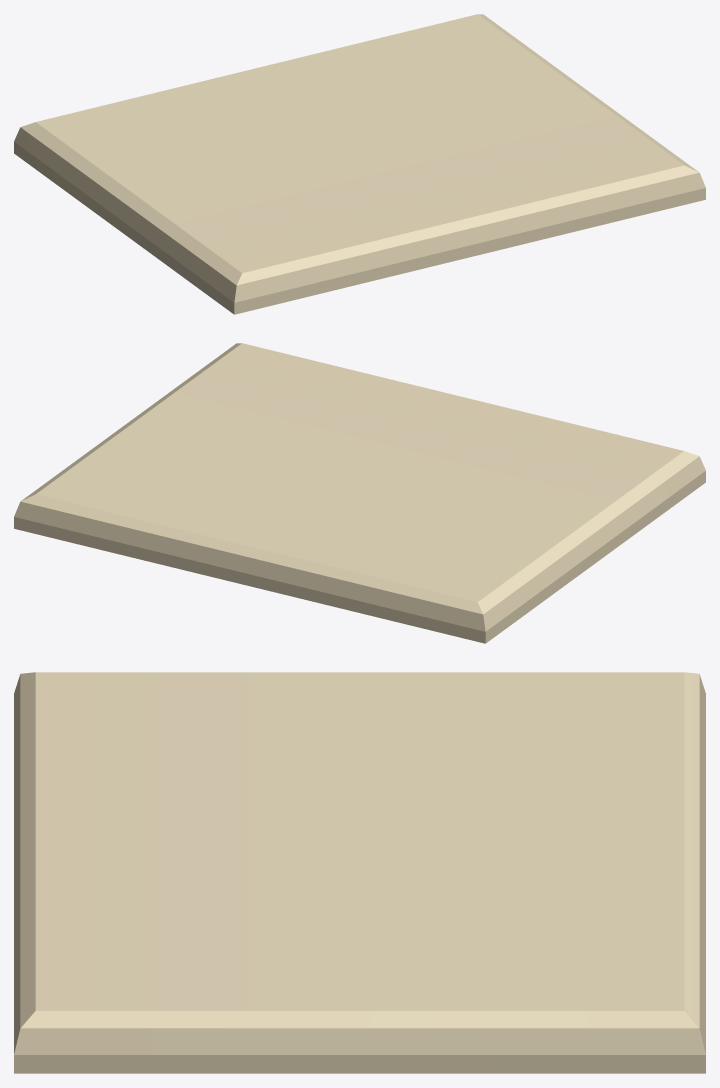
Rendered from board.glb.
3 renders of one model, top to bottom at view 1: azimuth 30°, elevation 25°; view 2: azimuth 150°, elevation 25°; view 3: azimuth 270°, elevation 25°, orthographic. The views are drawn at different scales.
Visible parts, largest first — view 1: board; view 2: board; view 3: board.
Part boxes in pixels (bbox=[...]): board: bbox=[14, 14, 705, 314]; board: bbox=[14, 343, 705, 643]; board: bbox=[14, 672, 705, 1073].
Size of the model in its own units: 1.05 by 0.07 by 0.85.
1 material, 1 textured.
